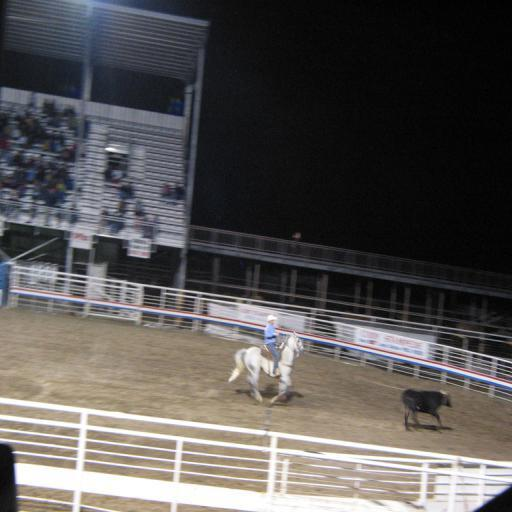horse: (228, 330, 306, 406)
